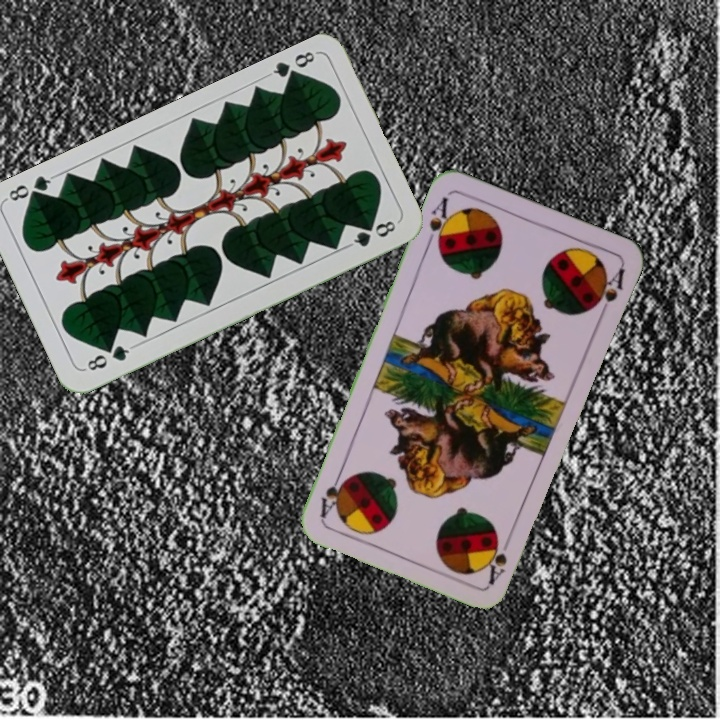G8: (263, 47, 320, 86), (80, 341, 136, 374)
SA: (422, 192, 456, 251), (484, 537, 510, 587)
